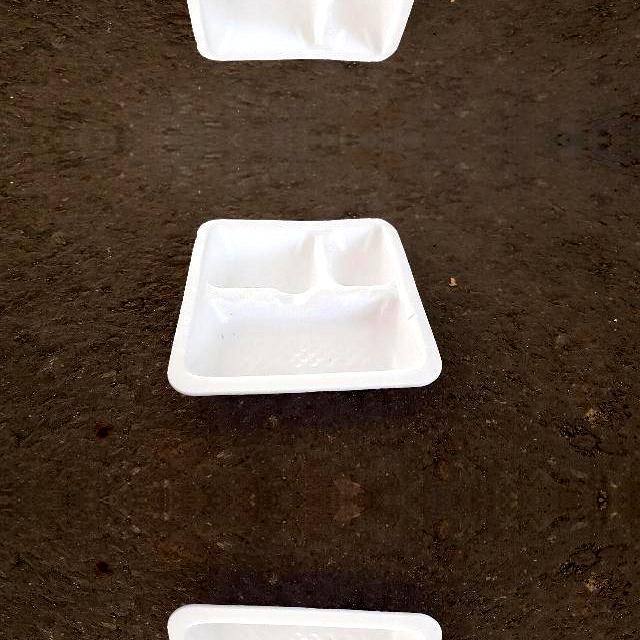Styrofoam: (166, 216, 442, 398), (167, 218, 442, 396), (166, 0, 441, 63), (187, 0, 414, 62), (166, 602, 441, 640), (167, 604, 442, 640)
